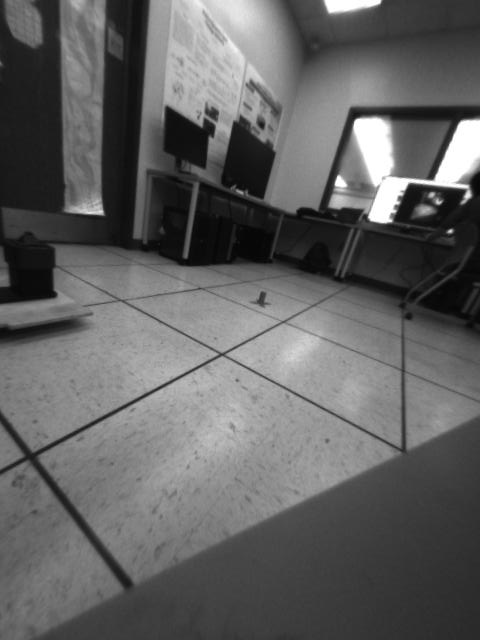X: (250, 289, 272, 312)
